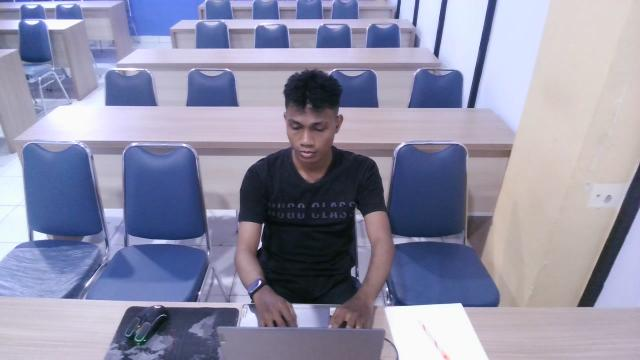Normal_Focus: (221, 64, 406, 360)
